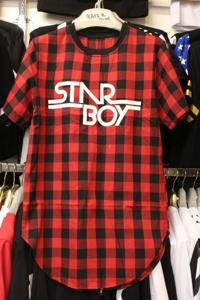C_T-shirt: (1, 12, 193, 295)
